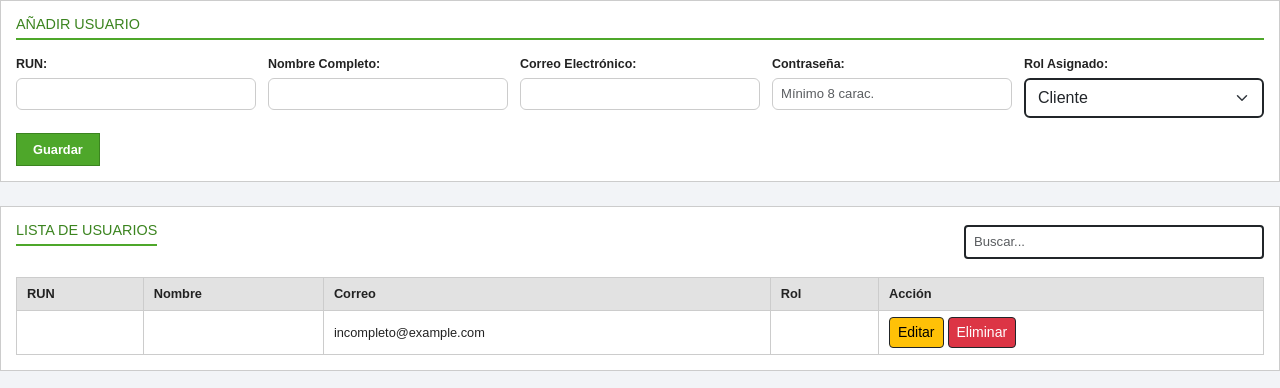
Scenario: GestionUsuarios › carga valores por defecto al editar un usuario con datos incompletos
The image size is (1280, 388).
Click the button "Editar" at (916, 332), box top-left (889, 317), bottom-right (944, 348)
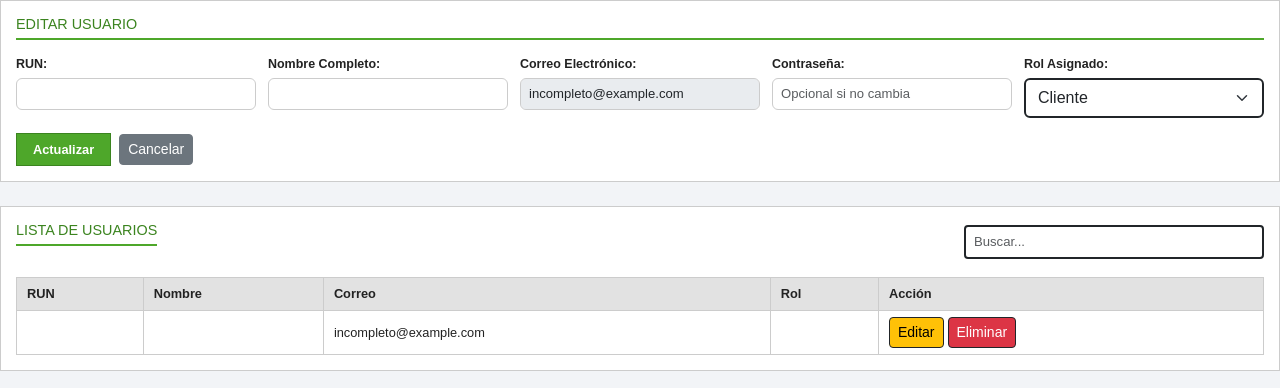
Expected: the field below "Nombre Completo:" is empty, top-left (268, 78), bottom-right (508, 110)
Result: the field below "Correo Electrónico:" holds "incompleto@example.com" at top-left (520, 78), bottom-right (760, 110)
